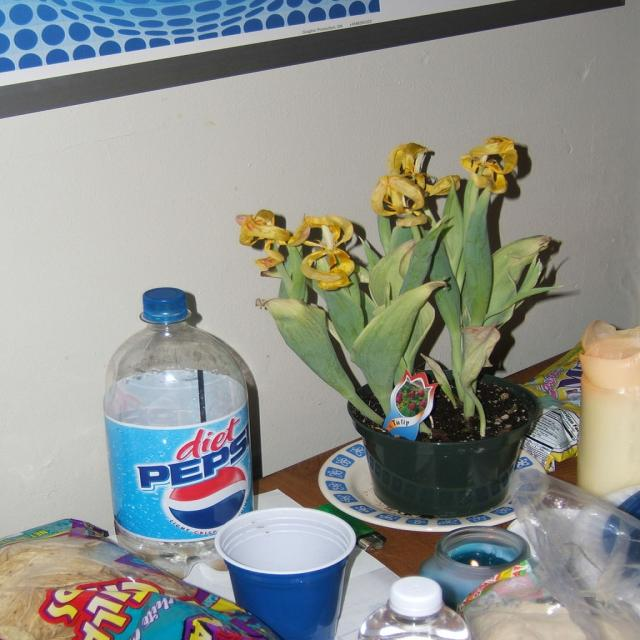pepsi: (168, 467, 249, 534)
